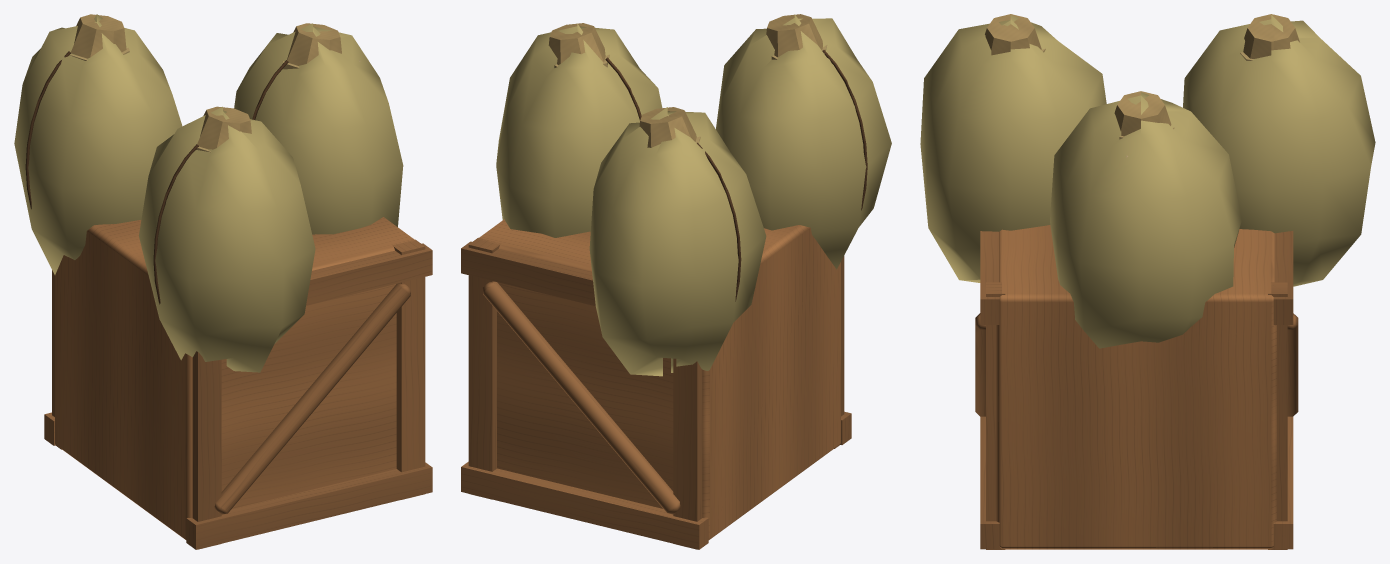
The model's file is cargo_ginseng.glb.
3 renders of one model, left to right at view 1: azimuth 30°, elevation 25°; view 2: azimuth 150°, elevation 25°; view 3: azimuth 270°, elevation 25°, orthographic. The views are drawn at different scales.
Parts seen in each view (by area): view 1: Solid_Ref_Ginseng, Solid_Ref_D19_Deck, Solid_Ref_D19_Wood, Solid_Ref_Sack, Solid_Ref_D19_Beam; view 2: Solid_Ref_Ginseng, Solid_Ref_D19_Deck, Solid_Ref_D19_Wood, Solid_Ref_Sack, Solid_Ref_D19_Beam; view 3: Solid_Ref_Ginseng, Solid_Ref_D19_Deck, Solid_Ref_D19_Wood, Solid_Ref_Sack.
Part boxes in pixels (left/top/right/bottom): Solid_Ref_Ginseng: left=14, top=14, right=403, bottom=372; Solid_Ref_D19_Deck: left=55, top=217, right=415, bottom=539; Solid_Ref_D19_Wood: left=44, top=239, right=432, bottom=549; Solid_Ref_Sack: left=71, top=14, right=341, bottom=149; Solid_Ref_D19_Beam: left=25, top=51, right=288, bottom=304; Solid_Ref_Ginseng: left=496, top=14, right=891, bottom=376; Solid_Ref_D19_Deck: left=478, top=219, right=840, bottom=539; Solid_Ref_D19_Wood: left=461, top=237, right=851, bottom=549; Solid_Ref_Sack: left=548, top=14, right=822, bottom=147; Solid_Ref_D19_Beam: left=605, top=50, right=867, bottom=301; Solid_Ref_Ginseng: left=920, top=15, right=1375, bottom=348; Solid_Ref_D19_Deck: left=996, top=225, right=1276, bottom=549; Solid_Ref_D19_Wood: left=975, top=231, right=1298, bottom=549; Solid_Ref_Sack: left=985, top=14, right=1299, bottom=136.
Size of the model in its own units: 0.8324 by 1.12 by 1.05.
Materials: 7 (4 with a texture image).
